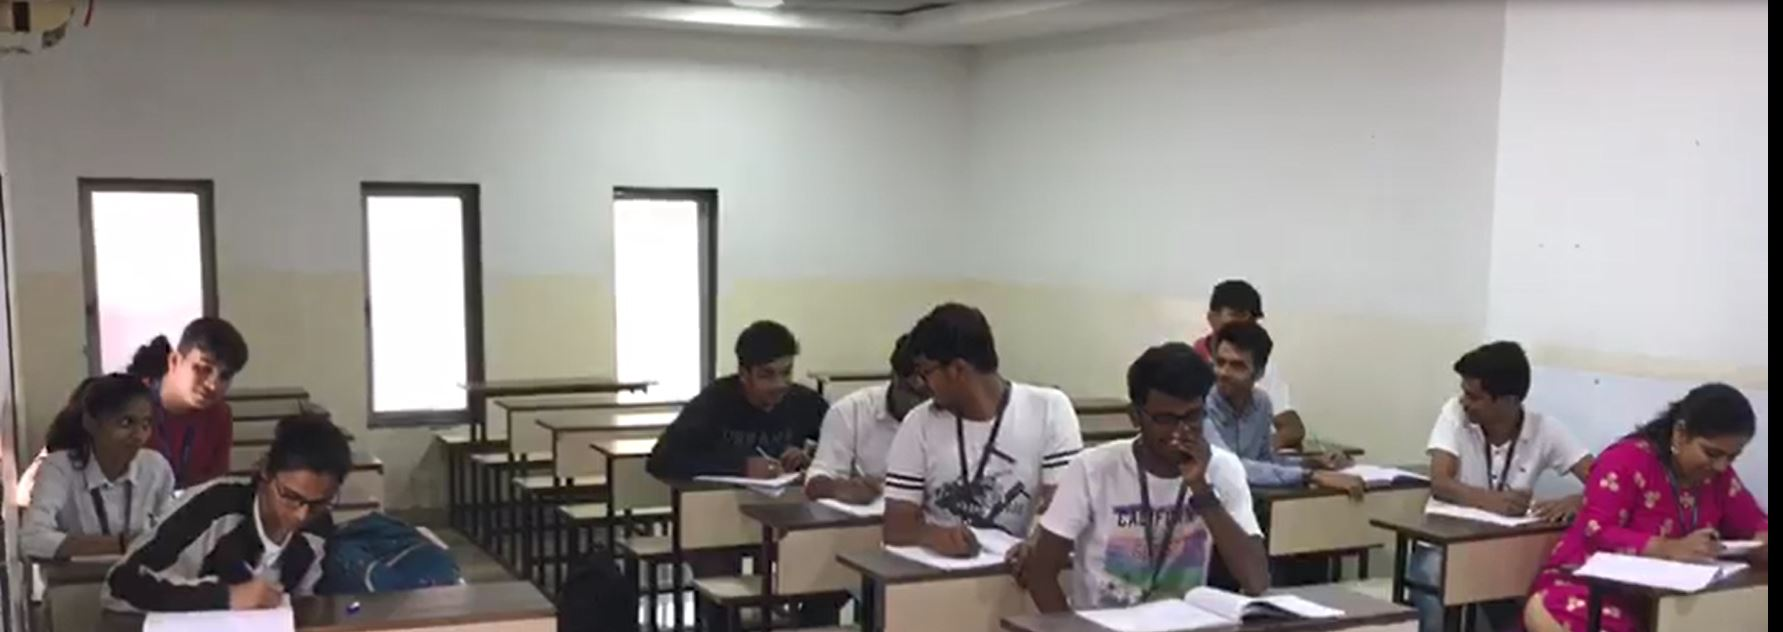student: (1509, 354, 1763, 583), (147, 416, 375, 632), (646, 329, 832, 495)
studentcopying: (1015, 337, 1266, 611), (863, 296, 1083, 524), (1375, 340, 1586, 508), (14, 379, 206, 562), (1200, 328, 1370, 508), (133, 329, 283, 479)
